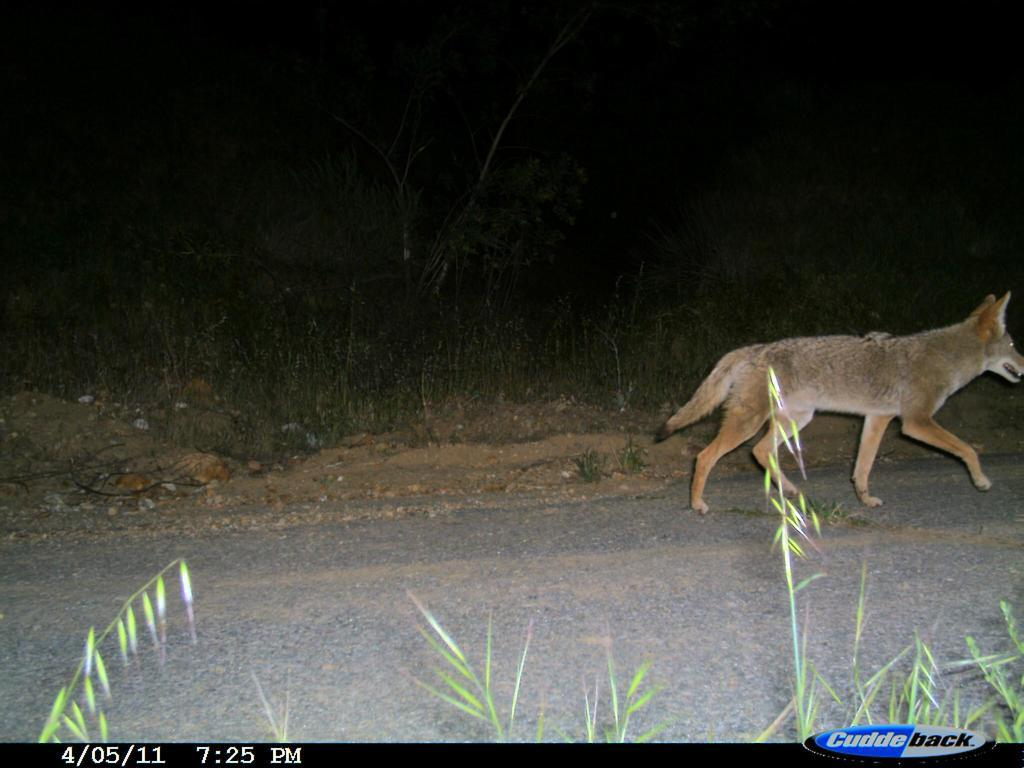coyote: (712, 295, 998, 521)
